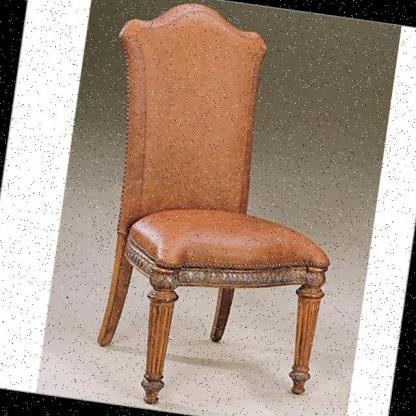Chair: (47, 0, 387, 416)
